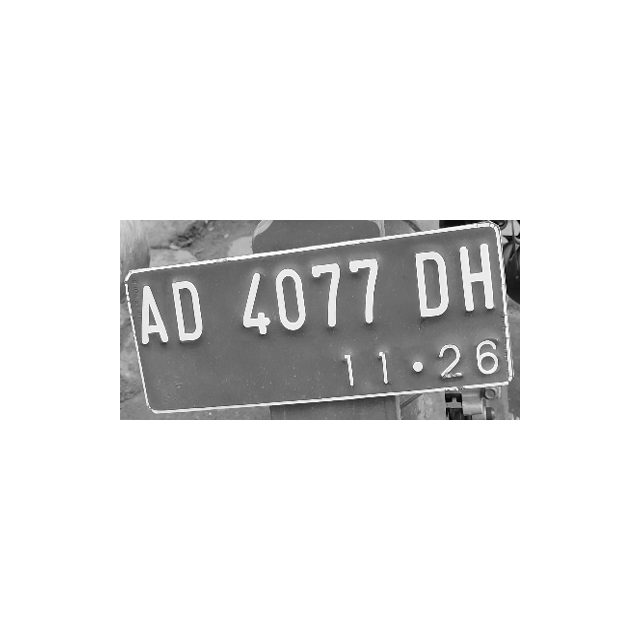contain: (413, 246, 456, 318), (458, 243, 500, 316), (236, 271, 276, 342), (310, 261, 348, 331), (347, 252, 382, 328), (167, 278, 206, 346), (273, 265, 310, 336), (137, 281, 172, 348)
